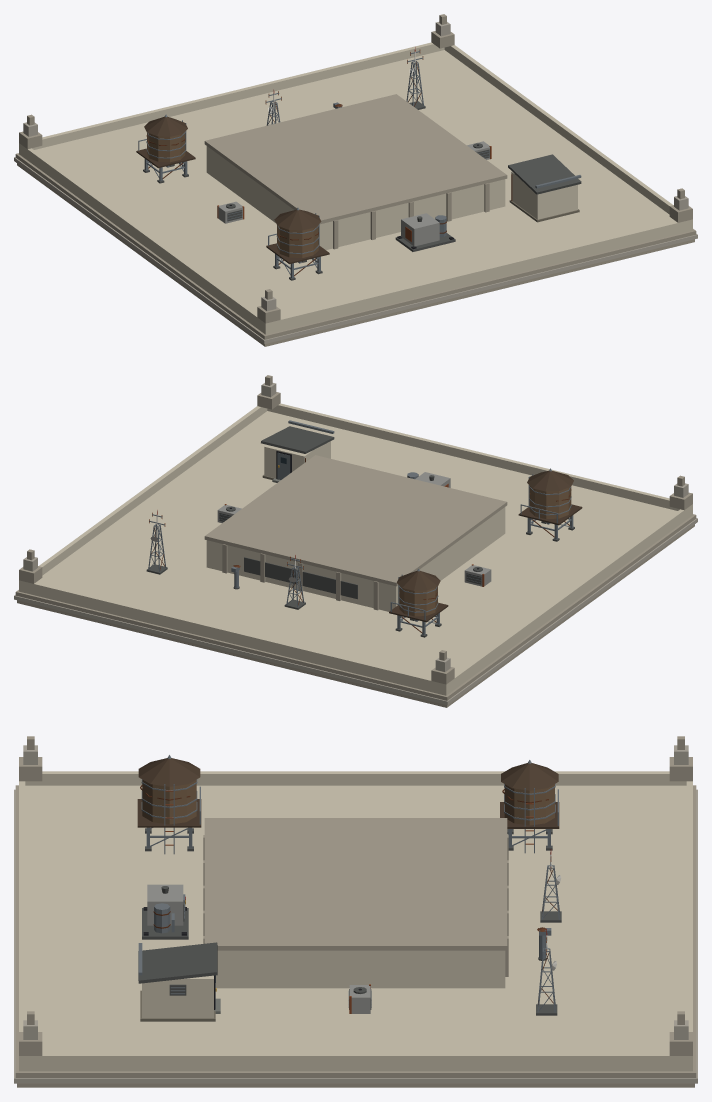
File: tw_deco_32_crown.glb
The picture shows the model from 3 angles, top to bottom: view 1: azimuth 30°, elevation 25°; view 2: azimuth 150°, elevation 25°; view 3: azimuth 270°, elevation 25°; orthographic projection. The views are drawn at different scales.
Visible parts, largest first — view 1: tw_deco_32_crown; view 2: tw_deco_32_crown; view 3: tw_deco_32_crown.
Boxes of the visible parts, x1,y1,x2,y2 form: tw_deco_32_crown: (14,14,697,346); tw_deco_32_crown: (14,375,697,707); tw_deco_32_crown: (14,736,697,1087).
Size of the model in its own units: 32.28 by 5.5 by 32.28.
Materials: 3 (3 with a texture image).
